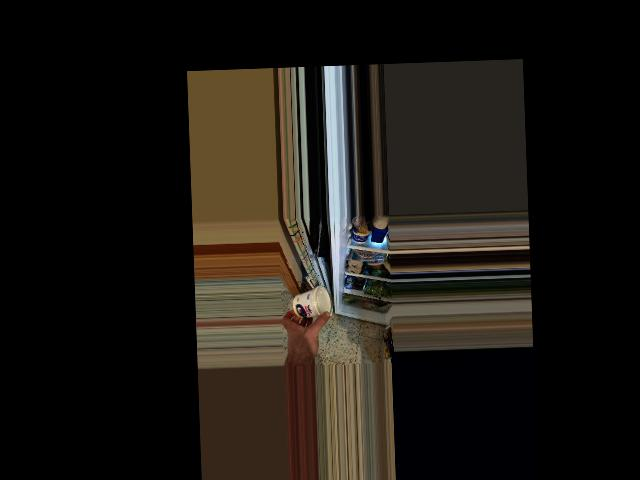cotage: (290, 286, 330, 321)
